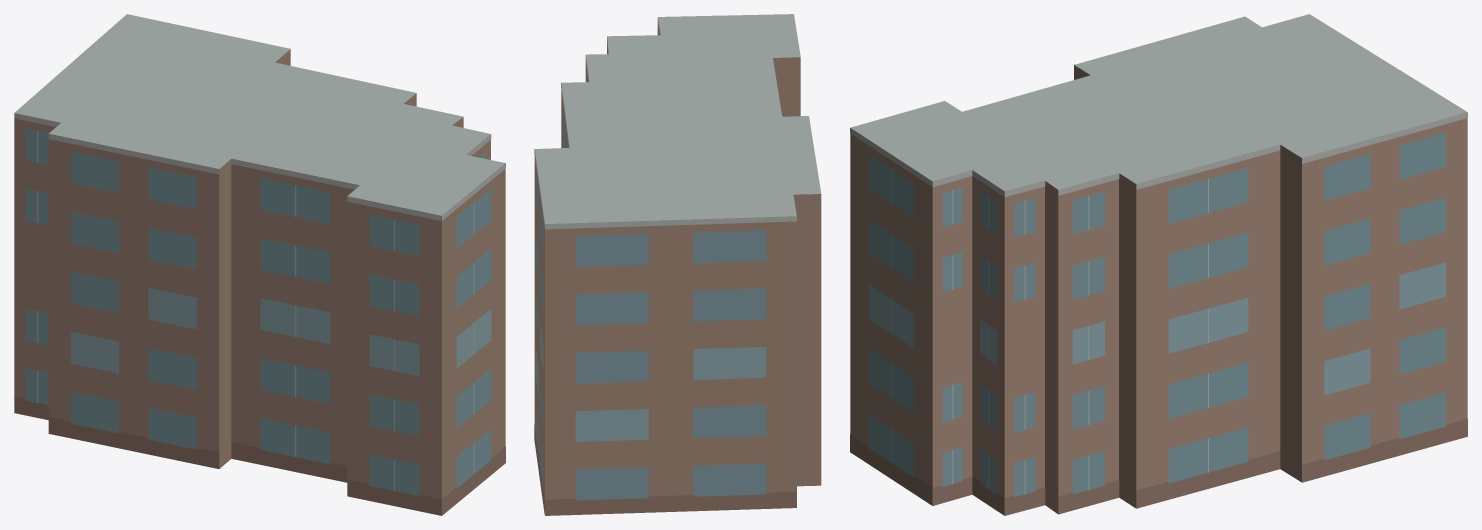
File: survey-upis-33037975.glb
3 renders of one model, left to right at view 1: azimuth 30°, elevation 25°; view 2: azimuth 150°, elevation 25°; view 3: azimuth 270°, elevation 25°, orthographic. The views are drawn at different scales.
Visible parts, largest first — view 1: survey-upis-33037975.tmp; view 2: survey-upis-33037975.tmp; view 3: survey-upis-33037975.tmp.
Part boxes in pixels (bbox=[...]): survey-upis-33037975.tmp: bbox=[14, 14, 505, 515]; survey-upis-33037975.tmp: bbox=[534, 14, 821, 515]; survey-upis-33037975.tmp: bbox=[850, 14, 1467, 515].
Size of the model in its own units: 15.83 by 13.5 by 23.29.
